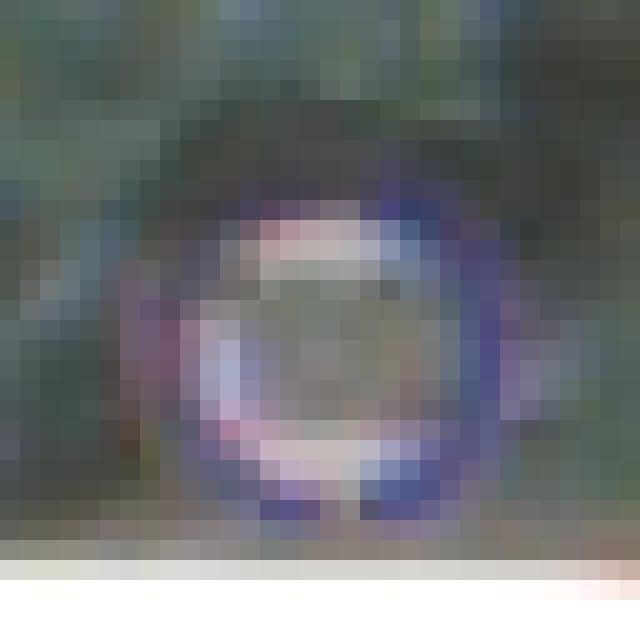SPEED LIMIT 100: (138, 163, 512, 536)
